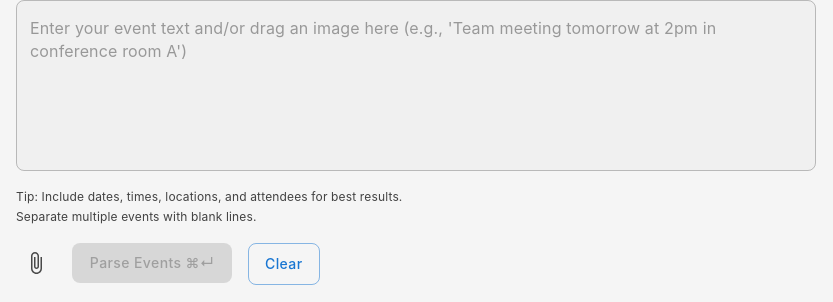
Test case: TextInputForm › rendering › should enable Parse Events button when text is entered
In the text box: (416, 86) 30,16 -> 802,154, type "Meeting tomorrow at 2pm"
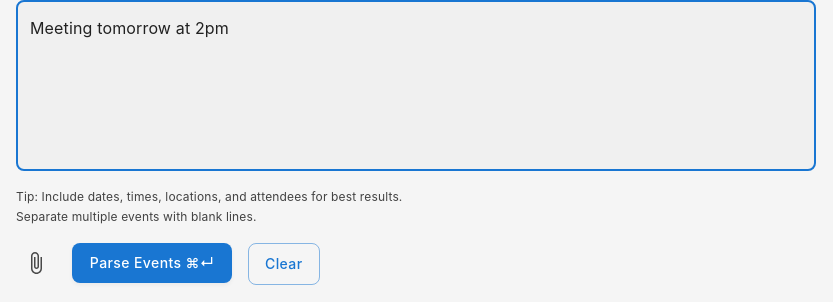
Check: the button "Parse Events ⌘↵" is enabled, box 72,243 -> 232,283
